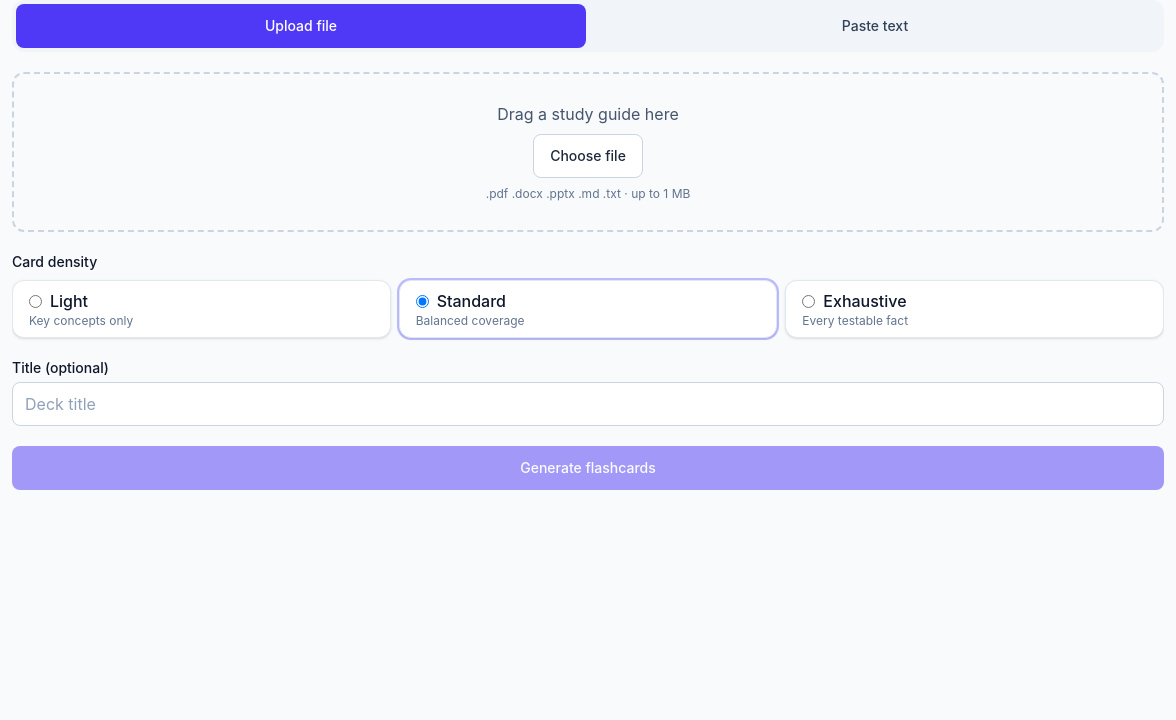
Test case: UploadForm › disables Generate until there is a file or text
Expected: the button "Generate flashcards" is disabled, [12, 446, 1164, 490]
Click the tab "Paste text".
click(875, 26)  # box [590, 4, 1160, 48]
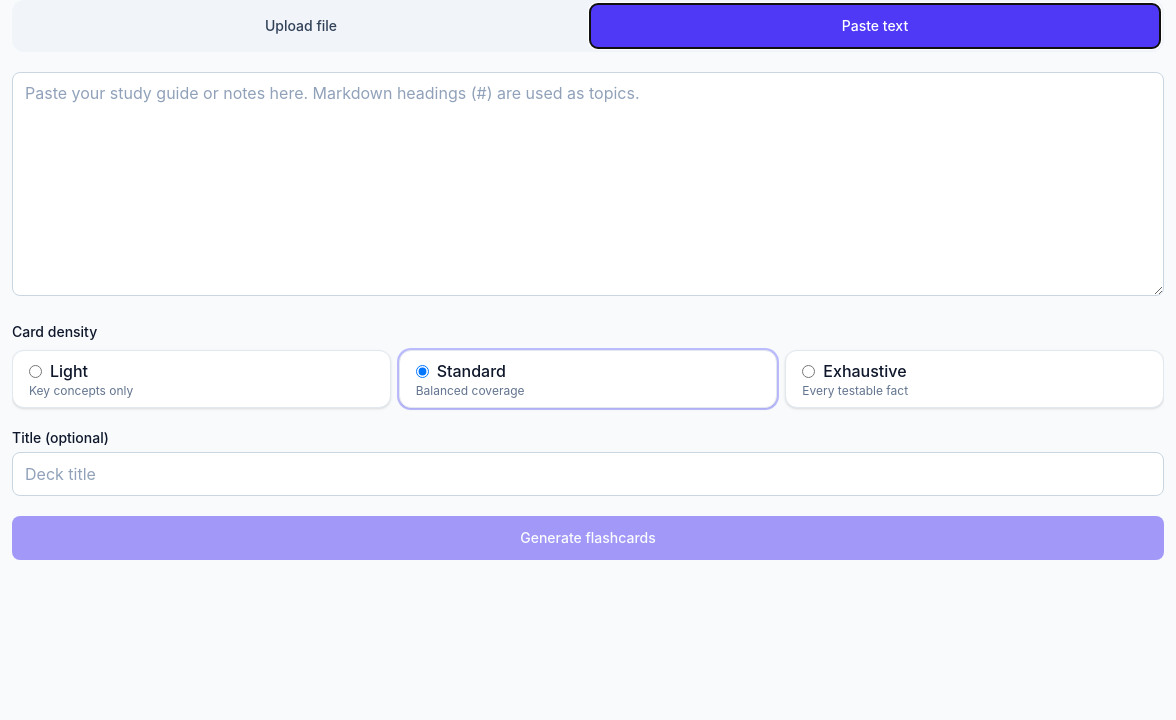
Expected: the button "Generate flashcards" is disabled, [12, 516, 1164, 560]
Type "# Hi" into the text box named "Study guide text".
click(588, 184); type("# Hi")  # box [12, 72, 1164, 296]
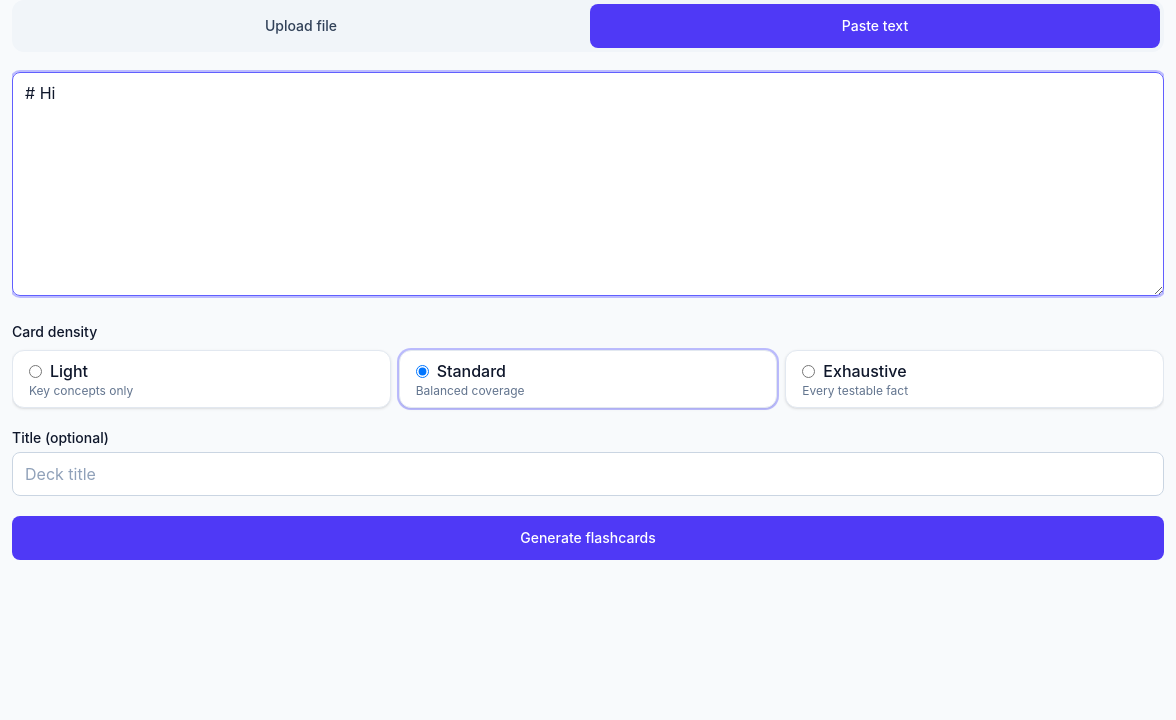
Expected: the button "Generate flashcards" is enabled, [12, 516, 1164, 560]
